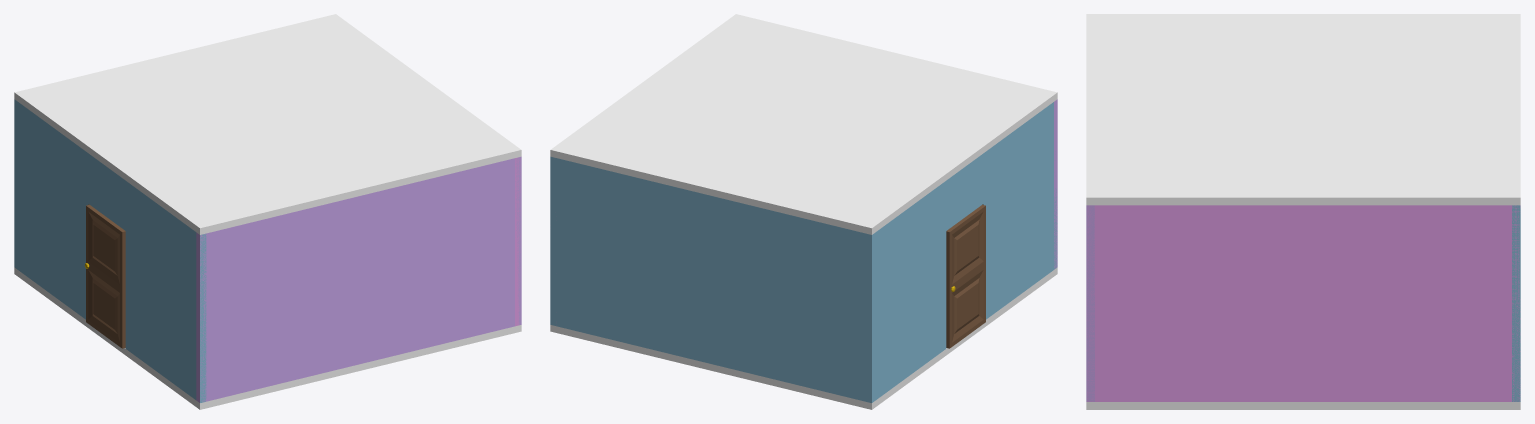
File: Room_1.glb
3 renders of one model, left to right at view 1: azimuth 30°, elevation 25°; view 2: azimuth 150°, elevation 25°; view 3: azimuth 270°, elevation 25°, orthographic. The views are drawn at different scales.
Parts seen in each view (by area): view 1: Room_1_Roof, Room_1_Wall_1, Room_1_Wall_2, Room_1_Door, Room_1_Floor, Room_1_Wall_3, Room_1_Wall_4; view 2: Room_1_Roof, Room_1_Wall_4, Room_1_Wall_2, Room_1_Door, Room_1_Floor, Room_1_Wall_1; view 3: Room_1_Wall_3, Room_1_Roof, Room_1_Floor, Room_1_Wall_4, Room_1_Wall_1.
Boxes of the visible parts, left/top/right/bottom form: Room_1_Roof: left=14, top=14, right=521, bottom=234; Room_1_Wall_1: left=196, top=156, right=521, bottom=402; Room_1_Wall_2: left=18, top=102, right=206, bottom=402; Room_1_Door: left=84, top=204, right=125, bottom=348; Room_1_Floor: left=14, top=267, right=521, bottom=409; Room_1_Wall_3: left=515, top=158, right=520, bottom=326; Room_1_Wall_4: left=14, top=99, right=17, bottom=269; Room_1_Roof: left=550, top=14, right=1057, bottom=234; Room_1_Wall_4: left=550, top=156, right=875, bottom=402; Room_1_Wall_2: left=865, top=102, right=1057, bottom=401; Room_1_Door: left=946, top=204, right=985, bottom=348; Room_1_Floor: left=550, top=267, right=1057, bottom=409; Room_1_Wall_1: left=1054, top=99, right=1057, bottom=269; Room_1_Wall_3: left=1086, top=205, right=1520, bottom=401; Room_1_Roof: left=1086, top=14, right=1520, bottom=205; Room_1_Floor: left=1086, top=402, right=1520, bottom=409; Room_1_Wall_4: left=1512, top=205, right=1520, bottom=401; Room_1_Wall_1: left=1086, top=205, right=1094, bottom=401.
Bounding box in the file's own units: 5.09 × 2.7 × 5.
Materials: 4 (2 with a texture image).
